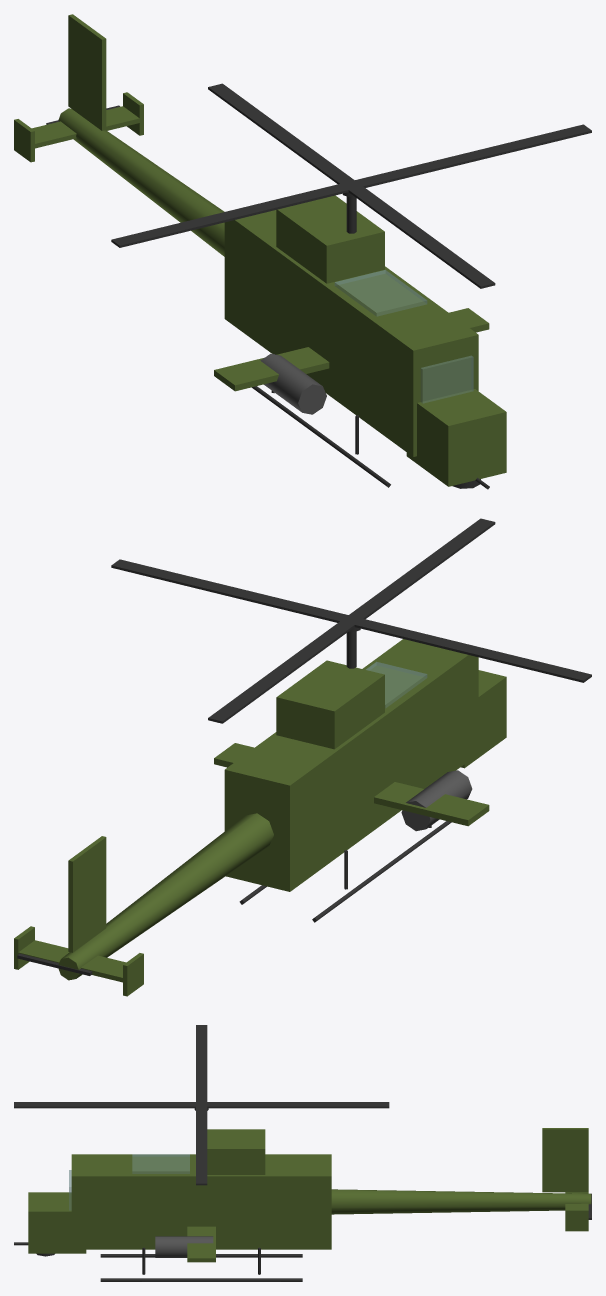
File: ah1-cobra.glb
The picture shows the model from 3 angles, top to bottom: view 1: azimuth 30°, elevation 25°; view 2: azimuth 150°, elevation 25°; view 3: azimuth 270°, elevation 25°; orthographic projection. The views are drawn at different scales.
Visible parts, largest first — view 1: Mesh_Fuselage, Mesh_Nose, Mesh_EngineCowling, Mesh_TailBoom, Mesh_MainRotor2, Mesh_MainRotor1, Mesh_VerticalFin, Mesh_RearCanopy, Mesh_StubWingL, Mesh_RocketPodL, Mesh_FrontCanopy, Mesh_HorizontalStab (+2 smaller); view 2: Mesh_Fuselage, Mesh_TailBoom, Mesh_EngineCowling, Mesh_MainRotor2, Mesh_MainRotor1, Mesh_VerticalFin, Mesh_StubWingL, Mesh_Nose, Mesh_RocketPodL, Mesh_HorizontalStab, Mesh_RearCanopy, Mesh_SkidLeft (+1 smaller); view 3: Mesh_Fuselage, Mesh_TailBoom, Mesh_VerticalFin, Mesh_Nose, Mesh_EngineCowling, Mesh_MainRotor1, Mesh_MainRotor2, Mesh_RearCanopy, Mesh_RocketPodR, Mesh_StubWingR, Mesh_SkidRight, Mesh_StabEndPlateR (+1 smaller).
Boxes of the visible parts, bbox=[...] form: Mesh_Fuselage: bbox=[224, 210, 478, 456]; Mesh_Nose: bbox=[406, 389, 506, 486]; Mesh_EngineCowling: bbox=[276, 195, 384, 283]; Mesh_TailBoom: bbox=[58, 108, 224, 256]; Mesh_MainRotor2: bbox=[111, 124, 591, 247]; Mesh_MainRotor1: bbox=[208, 83, 495, 288]; Mesh_VerticalFin: bbox=[68, 14, 106, 130]; Mesh_RearCanopy: bbox=[334, 270, 427, 316]; Mesh_StubWingL: bbox=[214, 347, 329, 391]; Mesh_RocketPodL: bbox=[260, 353, 326, 414]; Mesh_FrontCanopy: bbox=[421, 355, 473, 403]; Mesh_HorizontalStab: bbox=[32, 106, 141, 148]; Mesh_Fuselage: bbox=[224, 639, 478, 891]; Mesh_TailBoom: bbox=[58, 813, 273, 980]; Mesh_EngineCowling: bbox=[276, 660, 384, 749]; Mesh_MainRotor2: bbox=[111, 559, 591, 682]; Mesh_MainRotor1: bbox=[208, 518, 495, 723]; Mesh_VerticalFin: bbox=[68, 836, 106, 952]; Mesh_StubWingL: bbox=[374, 782, 489, 826]; Mesh_Nose: bbox=[461, 670, 506, 768]; Mesh_RocketPodL: bbox=[401, 770, 472, 831]; Mesh_HorizontalStab: bbox=[16, 940, 125, 982]; Mesh_RearCanopy: bbox=[366, 662, 427, 708]; Mesh_SkidLeft: bbox=[312, 821, 451, 922]; Mesh_Fuselage: bbox=[71, 1154, 331, 1249]; Mesh_TailBoom: bbox=[331, 1189, 591, 1214]; Mesh_VerticalFin: bbox=[542, 1128, 588, 1192]; Mesh_Nose: bbox=[28, 1192, 86, 1253]; Mesh_EngineCowling: bbox=[207, 1129, 265, 1174]; Mesh_MainRotor1: bbox=[14, 1102, 389, 1108]; Mesh_MainRotor2: bbox=[196, 1025, 207, 1185]; Mesh_RearCanopy: bbox=[132, 1154, 189, 1173]; Mesh_RocketPodR: bbox=[155, 1236, 213, 1257]; Mesh_StubWingR: bbox=[187, 1226, 215, 1262]; Mesh_SkidRight: bbox=[100, 1278, 302, 1281]; Mesh_StabEndPlateR: bbox=[565, 1209, 588, 1231].
Size of the model in its own units: 6.5 by 3.16 by 10.01.
